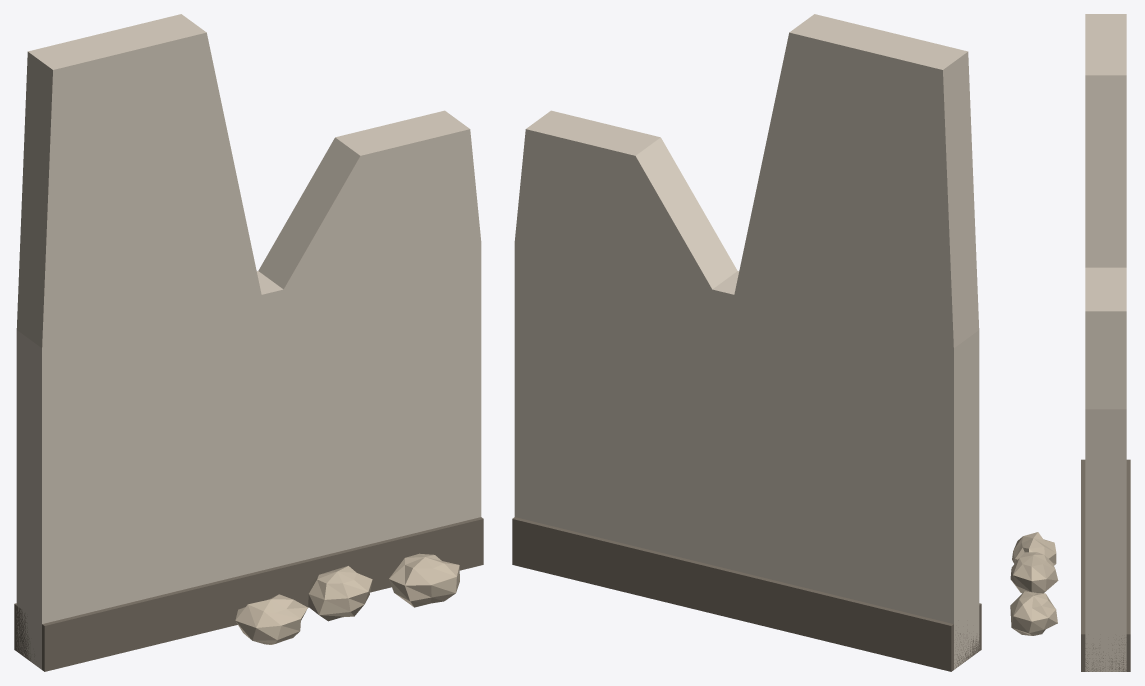
Rendered from wall_plaster_damaged.glb.
3 renders of one model, left to right at view 1: azimuth 30°, elevation 25°; view 2: azimuth 150°, elevation 25°; view 3: azimuth 270°, elevation 25°, orthographic. The views are drawn at different scales.
Visible parts, largest first — view 1: wall_plaster_damaged; view 2: wall_plaster_damaged; view 3: wall_plaster_damaged.
Boxes of the visible parts, x1=… form: wall_plaster_damaged: x1=14, y1=14, x2=483, y2=671; wall_plaster_damaged: x1=512, y1=14, x2=981, y2=671; wall_plaster_damaged: x1=1010, y1=14, x2=1130, y2=671.
Size of the model in its own units: 2 by 2.6 by 0.5821.
